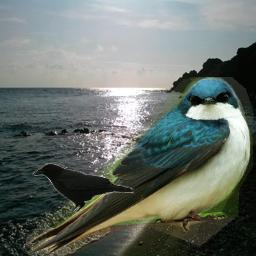Crow: (30, 161, 134, 213)
Swallow: (26, 77, 253, 256)
